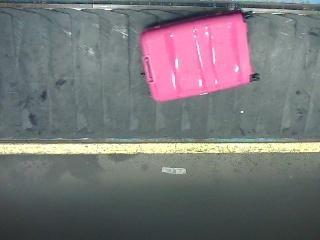Suitcase: (140, 11, 260, 102)
